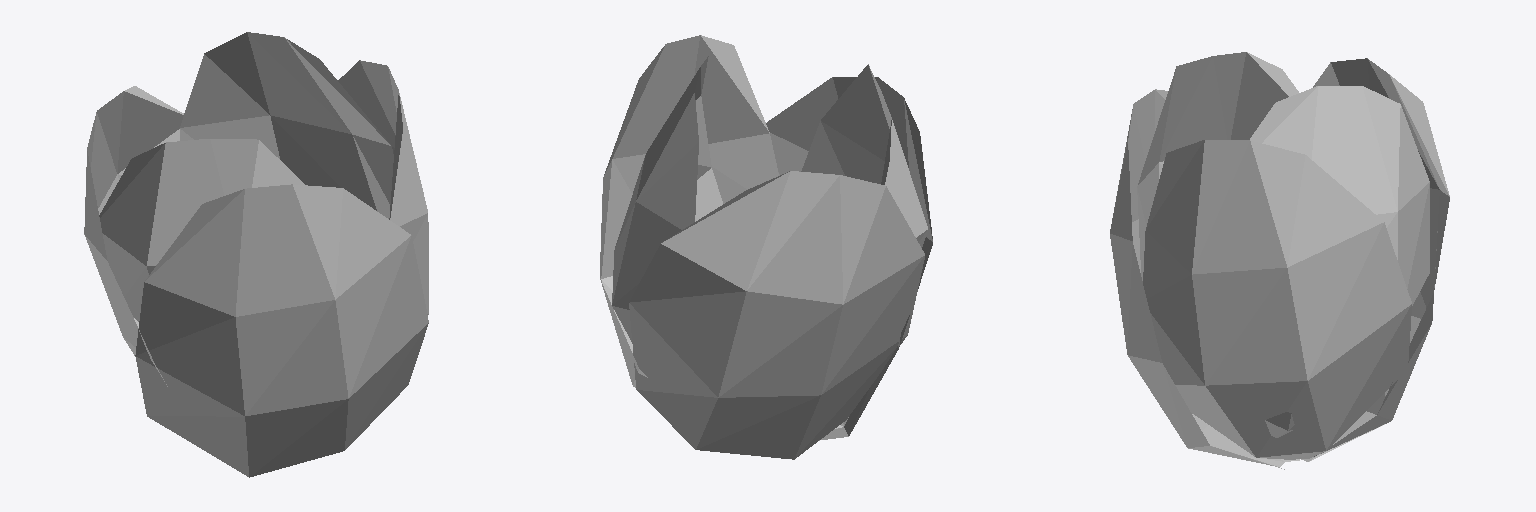
The model's file is Flower.obj.
The picture shows the model from 3 angles: view 1: azimuth 30°, elevation 25°; view 2: azimuth 150°, elevation 25°; view 3: azimuth 270°, elevation 25°; orthographic projection.
Parts seen in each view (by area): view 1: testa_tulipano_uploads_files_[number redacted]_tulips_alutaroma_free.001; view 2: testa_tulipano_uploads_files_[number redacted]_tulips_alutaroma_free.001; view 3: testa_tulipano_uploads_files_[number redacted]_tulips_alutaroma_free.001.
Boxes of the visible parts, x1,y1,x2,y2 form: testa_tulipano_uploads_files_[number redacted]_tulips_alutaroma_free.001: [84, 32, 428, 477]; testa_tulipano_uploads_files_[number redacted]_tulips_alutaroma_free.001: [600, 35, 932, 459]; testa_tulipano_uploads_files_[number redacted]_tulips_alutaroma_free.001: [1110, 52, 1449, 469].
Size of the model in its own units: 0.3673 by 0.4438 by 0.3542.